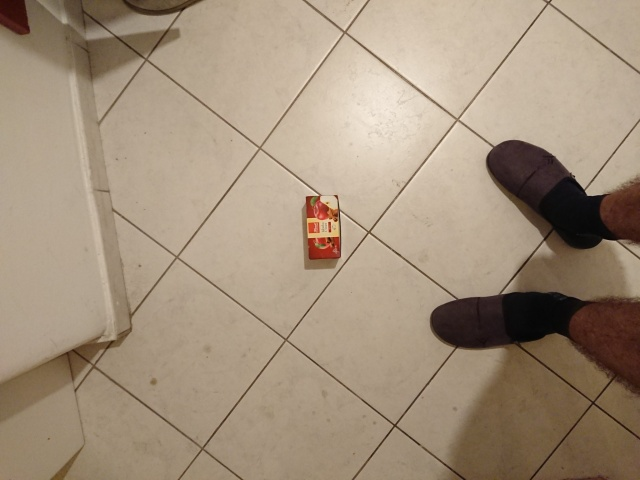Franck Apple Cinnamon Tea 60g: (303, 192, 344, 262)
